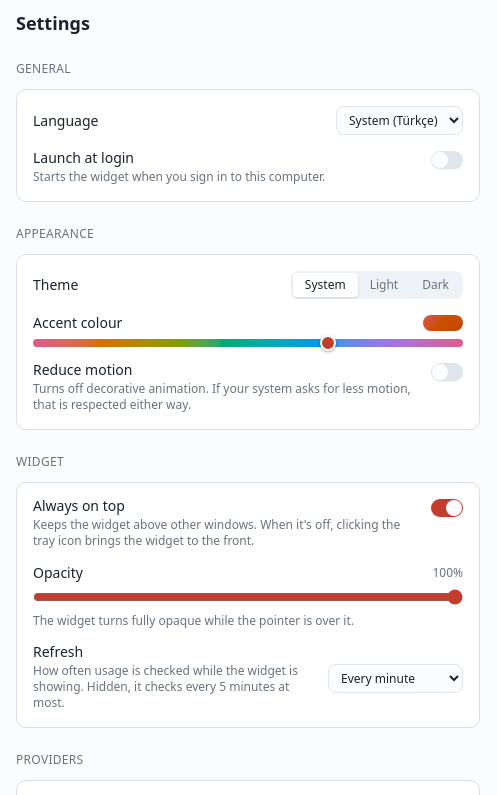
Scenario: widget › saves opacity once the slider settles
Set the slider labelled "Opacity" to "80" at x=337, y=597, box [33,589,463,605]
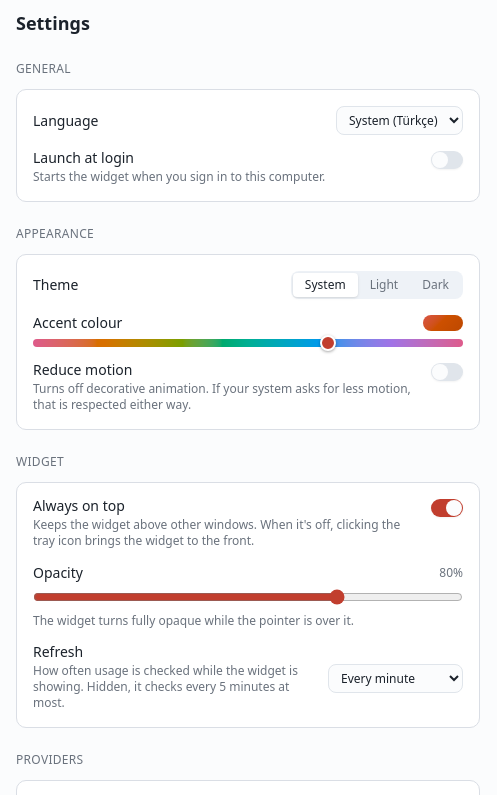
Set the slider labelled "Opacity" to "60" at x=218, y=597, box [33,589,463,605]
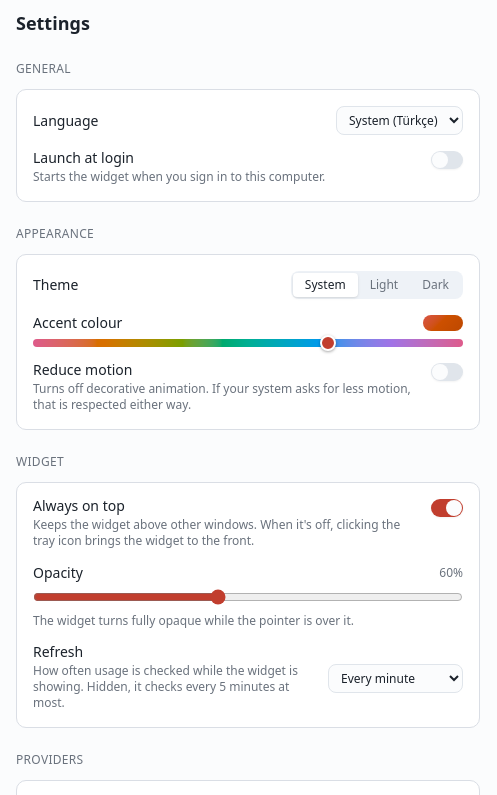
Check: the text "60%" is shown, box [439,565,463,581]
